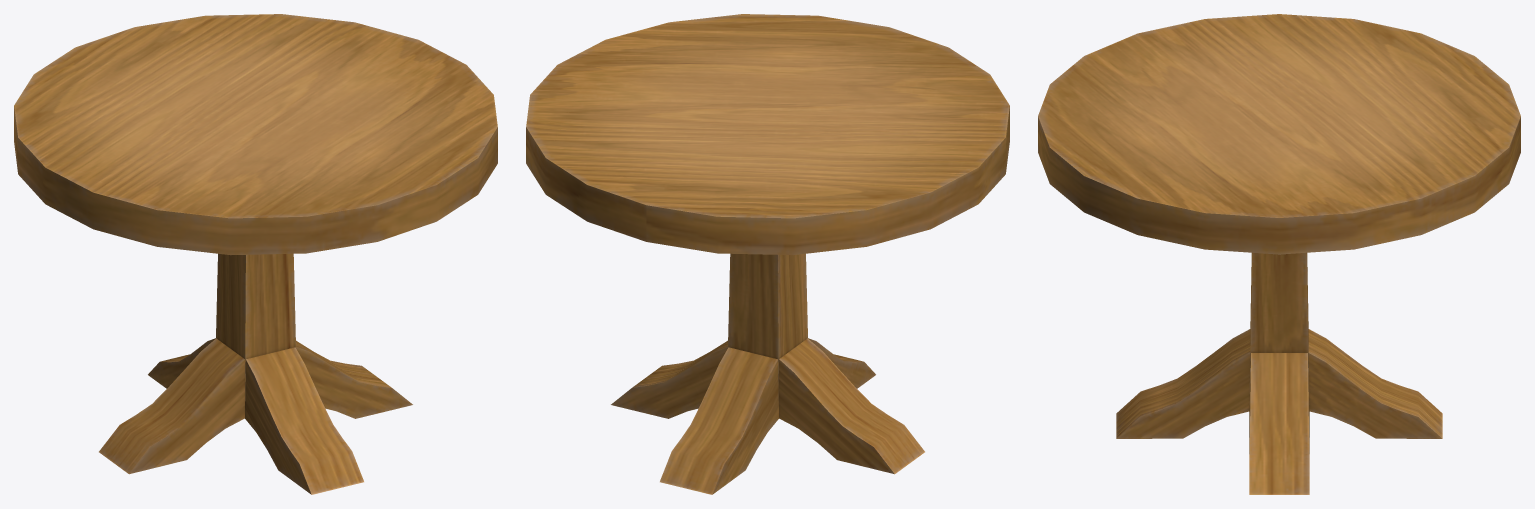
Rendered from sb_obj_indoor039_WoodTable.fbx.
The picture shows the model from 3 angles, left to right: view 1: azimuth 30°, elevation 25°; view 2: azimuth 150°, elevation 25°; view 3: azimuth 270°, elevation 25°; orthographic projection.
Parts seen in each view (by area): view 1: sb_obj_indoor039_WoodTable; view 2: sb_obj_indoor039_WoodTable; view 3: sb_obj_indoor039_WoodTable.
Boxes of the visible parts, box(x1,y1,x2,y2) form: sb_obj_indoor039_WoodTable: box(14, 14, 497, 494); sb_obj_indoor039_WoodTable: box(526, 14, 1009, 494); sb_obj_indoor039_WoodTable: box(1038, 14, 1520, 494).
Bounding box in the file's own units: 1.06 × 0.748 × 1.06.
